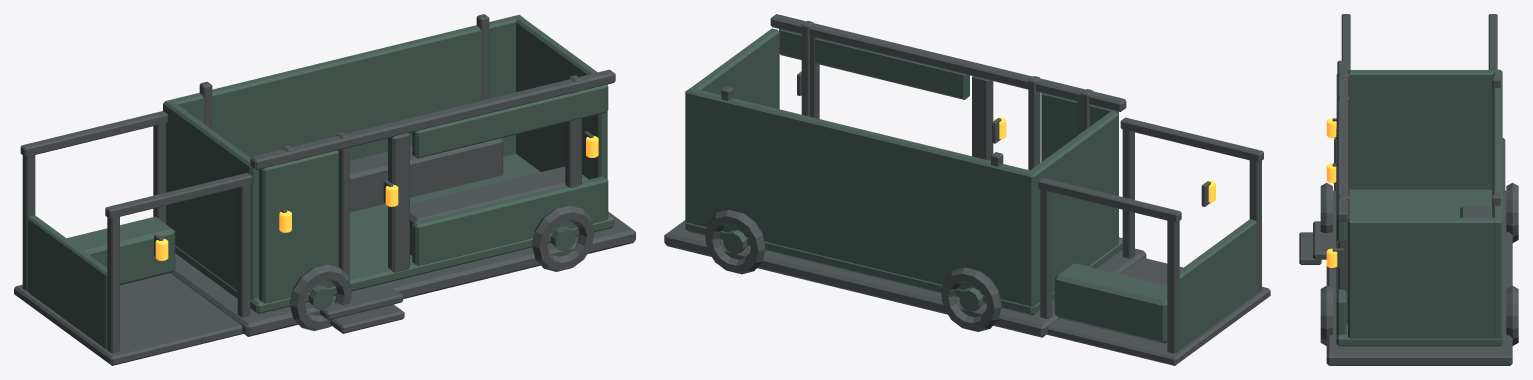
The model's file is old_klim_trade_hall.glb.
3 views of the same model, side by side, from view 1: azimuth 30°, elevation 25°; view 2: azimuth 150°, elevation 25°; view 3: azimuth 270°, elevation 25° (orthographic). The views are drawn at different scales.
Visible parts, largest first — view 1: old_klim_trade_hall_old_klim_weathered_verdigris_mesh, old_klim_trade_hall_old_klim_weathered_charcoal_steel_mesh, old_klim_trade_hall_old_klim_weathered_charcoal_steel_ground, old_klim_trade_hall_old_klim_weathered_verdigris_ground_deta, old_klim_trade_hall_old_klim_amber_lamp_mesh; view 2: old_klim_trade_hall_old_klim_weathered_verdigris_mesh, old_klim_trade_hall_old_klim_weathered_charcoal_steel_mesh, old_klim_trade_hall_old_klim_weathered_charcoal_steel_ground, old_klim_trade_hall_old_klim_weathered_verdigris_ground_deta; view 3: old_klim_trade_hall_old_klim_weathered_verdigris_mesh, old_klim_trade_hall_old_klim_weathered_charcoal_steel_mesh, old_klim_trade_hall_old_klim_weathered_charcoal_steel_ground, old_klim_trade_hall_old_klim_weathered_verdigris_ground_deta, old_klim_trade_hall_old_klim_amber_lamp_mesh.
Part boxes in pixels (x1=…): old_klim_trade_hall_old_klim_weathered_verdigris_mesh: x1=28, y1=14, x2=608, y2=349; old_klim_trade_hall_old_klim_weathered_charcoal_steel_mesh: x1=20, y1=14, x2=615, y2=353; old_klim_trade_hall_old_klim_weathered_charcoal_steel_ground: x1=14, y1=211, x2=635, y2=365; old_klim_trade_hall_old_klim_weathered_verdigris_ground_deta: x1=175, y1=153, x2=614, y2=313; old_klim_trade_hall_old_klim_amber_lamp_mesh: x1=155, y1=136, x2=598, y2=260; old_klim_trade_hall_old_klim_weathered_verdigris_mesh: x1=685, y1=28, x2=1256, y2=349; old_klim_trade_hall_old_klim_weathered_charcoal_steel_mesh: x1=705, y1=14, x2=1263, y2=353; old_klim_trade_hall_old_klim_weathered_charcoal_steel_ground: x1=664, y1=220, x2=1270, y2=365; old_klim_trade_hall_old_klim_weathered_verdigris_ground_deta: x1=685, y1=222, x2=1122, y2=315; old_klim_trade_hall_old_klim_weathered_verdigris_mesh: x1=1336, y1=69, x2=1502, y2=338; old_klim_trade_hall_old_klim_weathered_charcoal_steel_mesh: x1=1320, y1=14, x2=1518, y2=345; old_klim_trade_hall_old_klim_weathered_charcoal_steel_ground: x1=1299, y1=138, x2=1512, y2=365; old_klim_trade_hall_old_klim_weathered_verdigris_ground_deta: x1=1336, y1=188, x2=1502, y2=346; old_klim_trade_hall_old_klim_amber_lamp_mesh: x1=1326, y1=118, x2=1337, y2=267.
Size of the model in its own units: 10.56 by 3.48 by 4.42.
